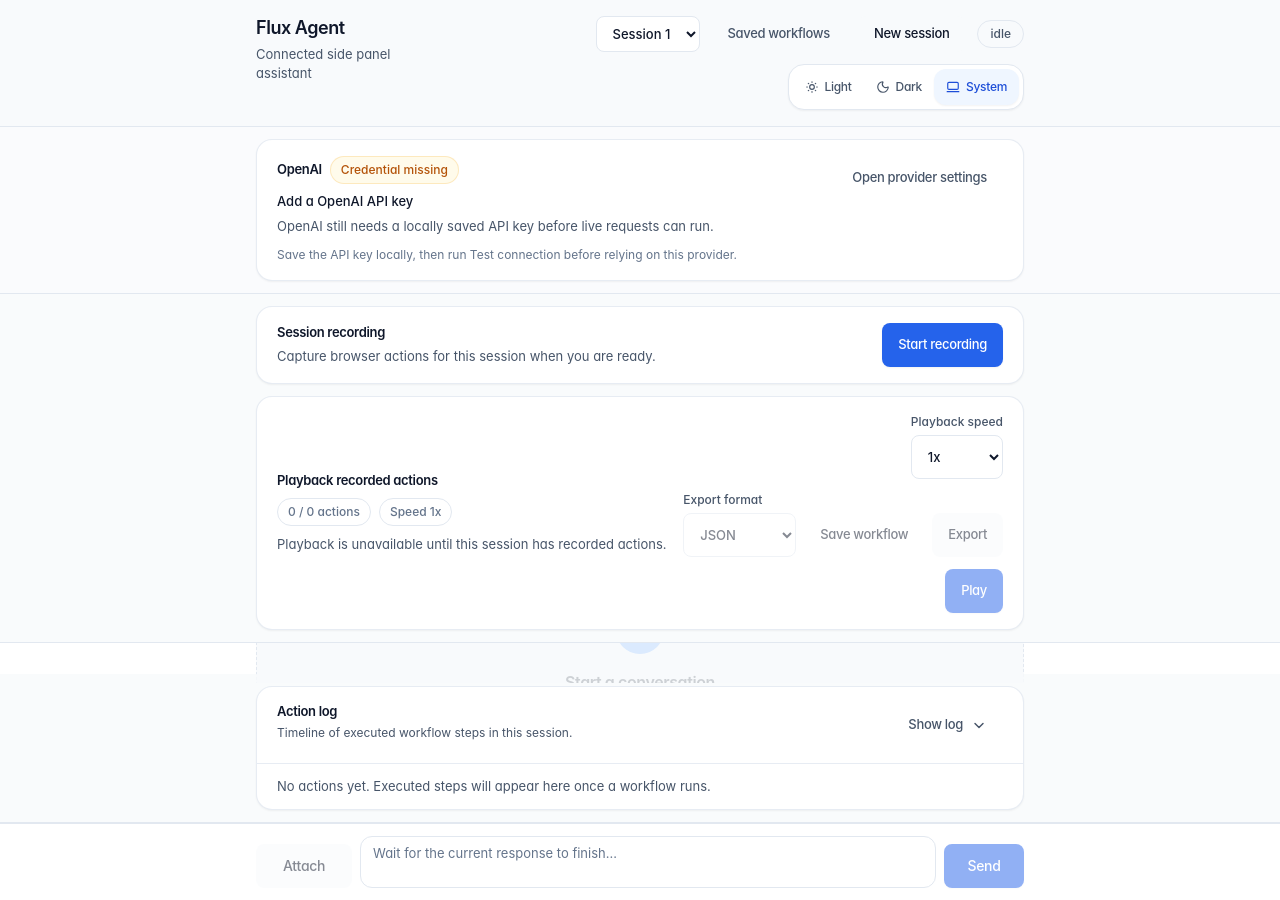
Test case: Side panel App (U-15 integration) › reuses the save modal to edit workflow metadata
The width and height of the screenshot is (1280, 900).
Click the button "Saved workflows" at (779, 34), box [712, 16, 846, 52]
(page scrolled)
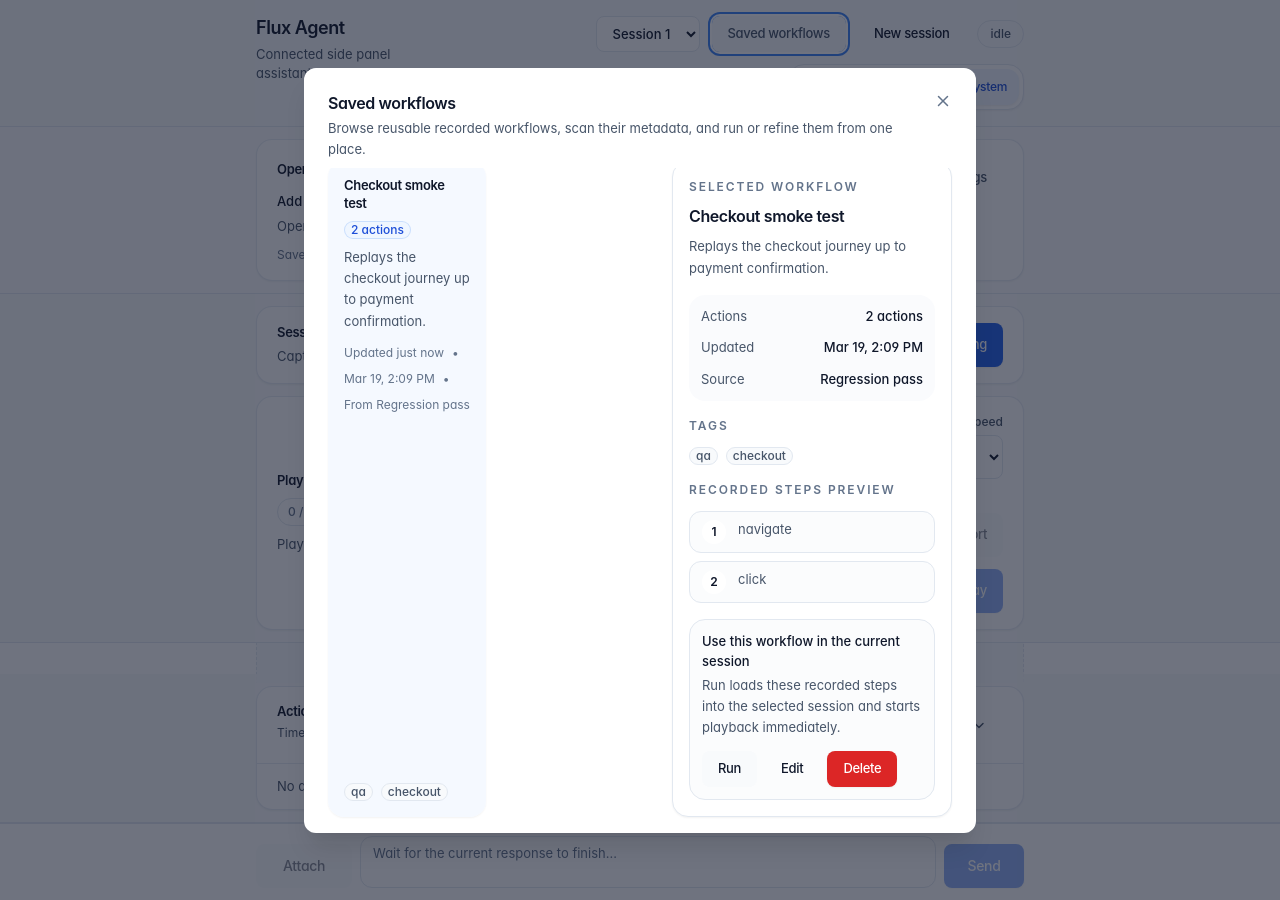
Click the button "Edit" at (792, 768), box [765, 750, 819, 786]
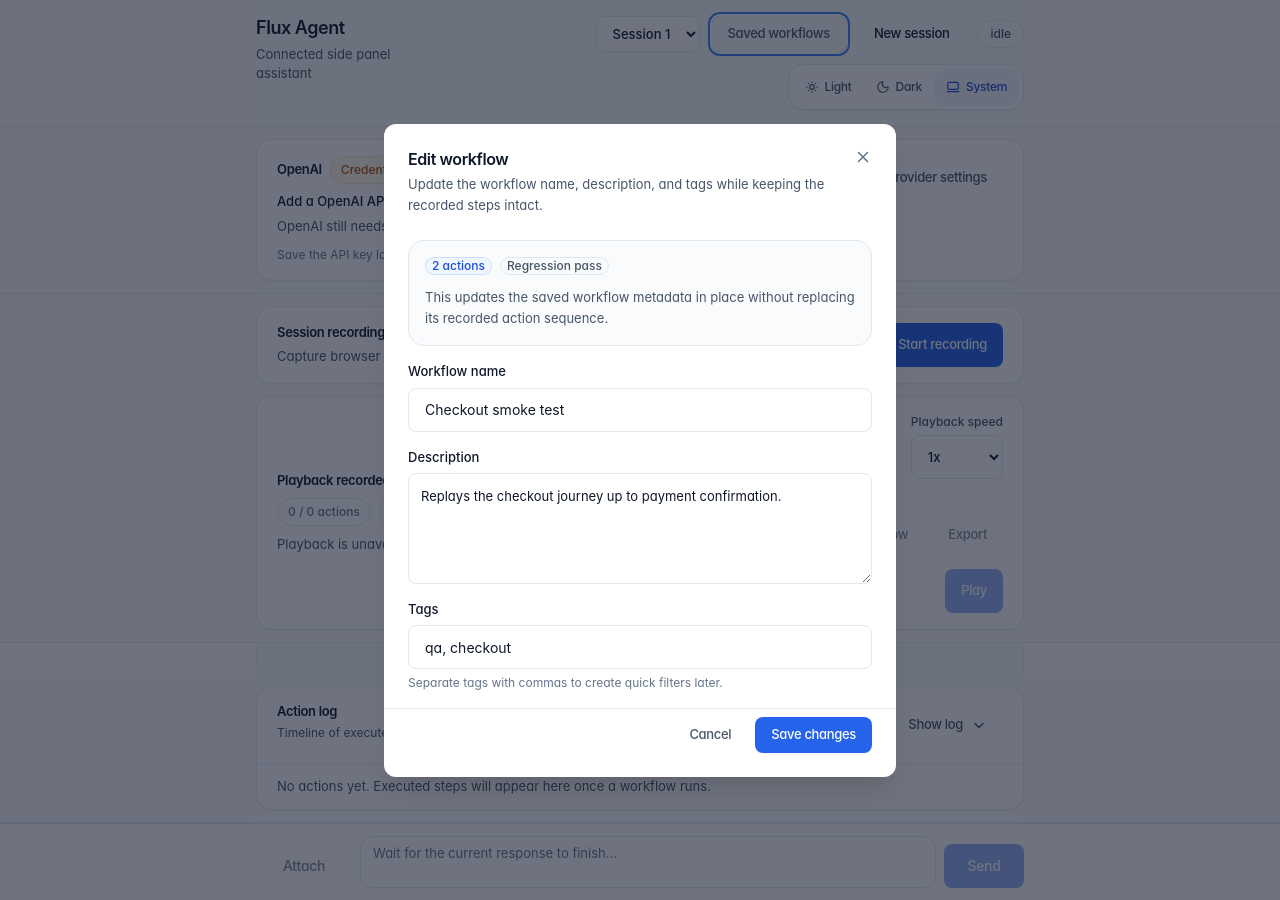
Expected: the button "Save changes" is shown, [755, 716, 872, 752]
Type "Checkout recovery path" into the field labelled "Workflow name" at (640, 410), box [408, 388, 872, 432]
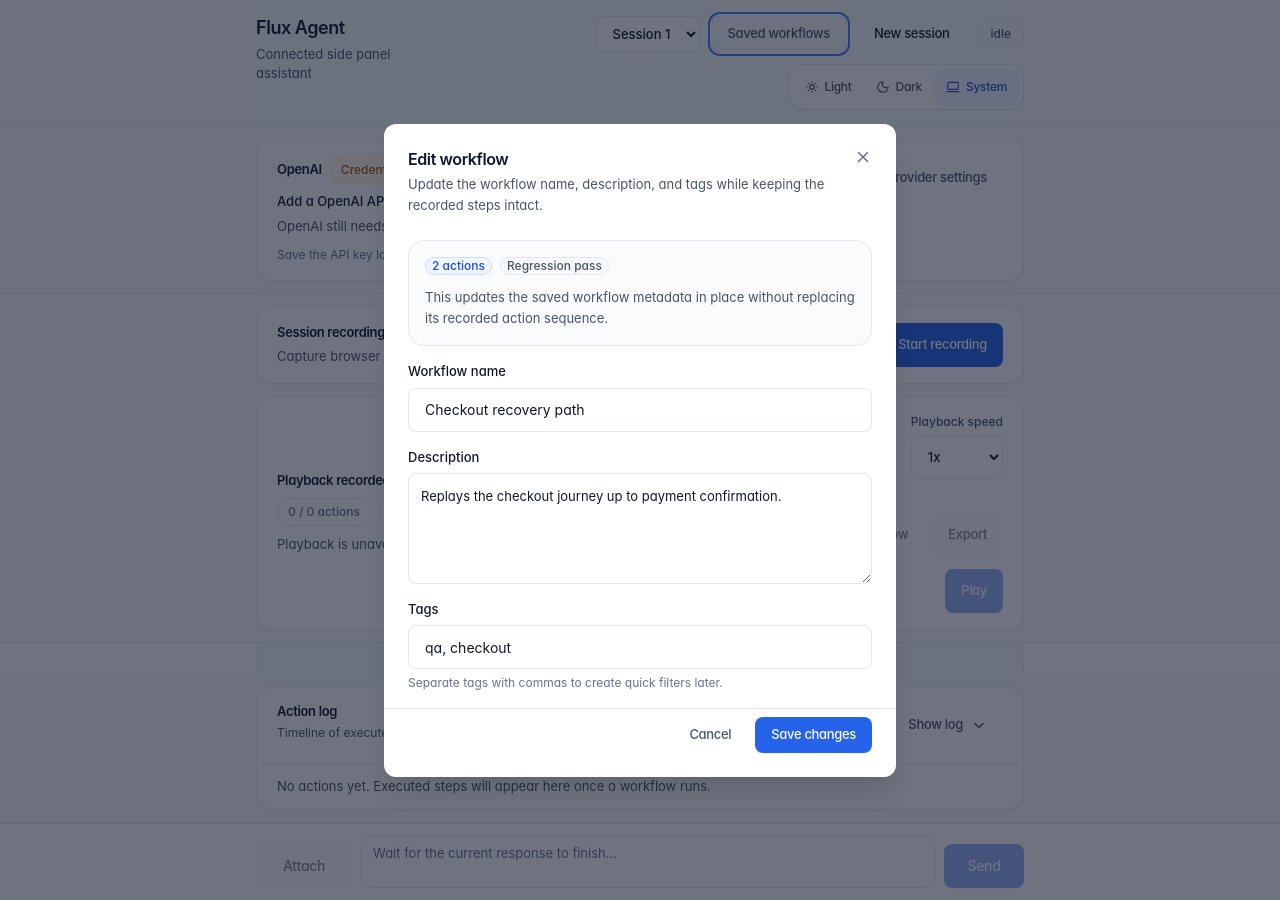
Replace the text in the text box labelled "Description" with "Covers retries before payment confirmation." at (640, 528), box [408, 473, 872, 584]
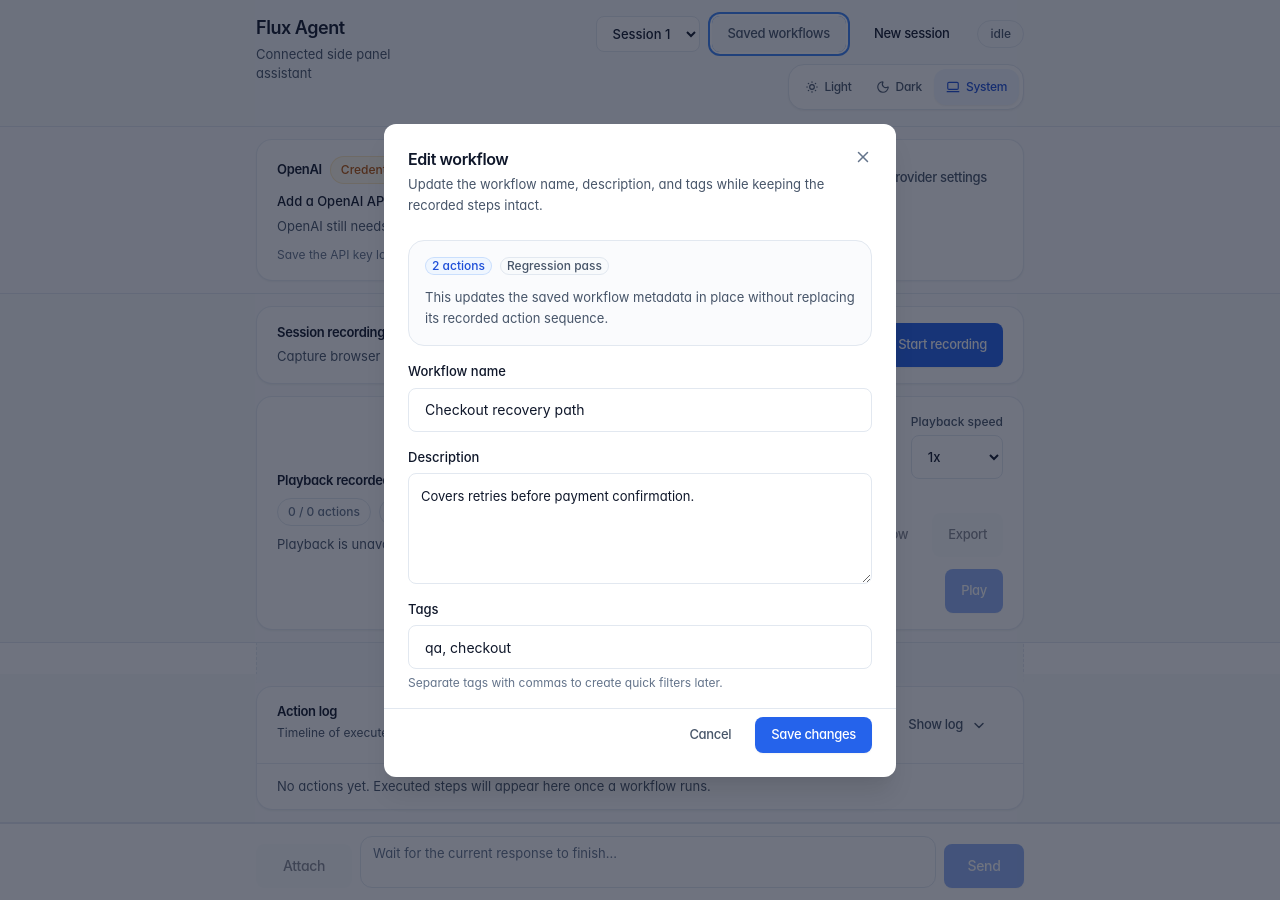
Replace the text in the field labelled "Tags" with "qa, recovery" at (640, 647), box [408, 625, 872, 669]
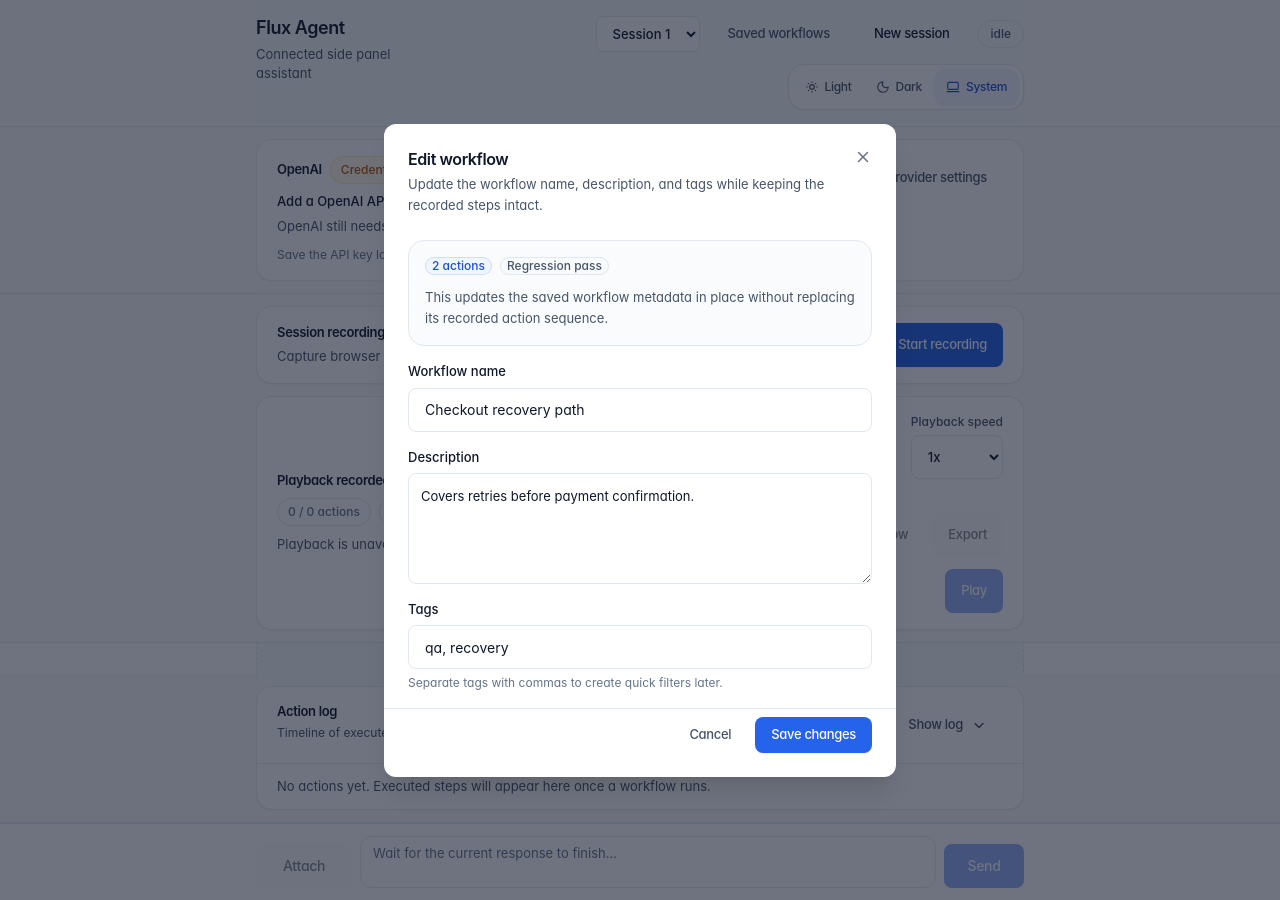
Click the button "Save changes" at (814, 734), box [755, 716, 872, 752]
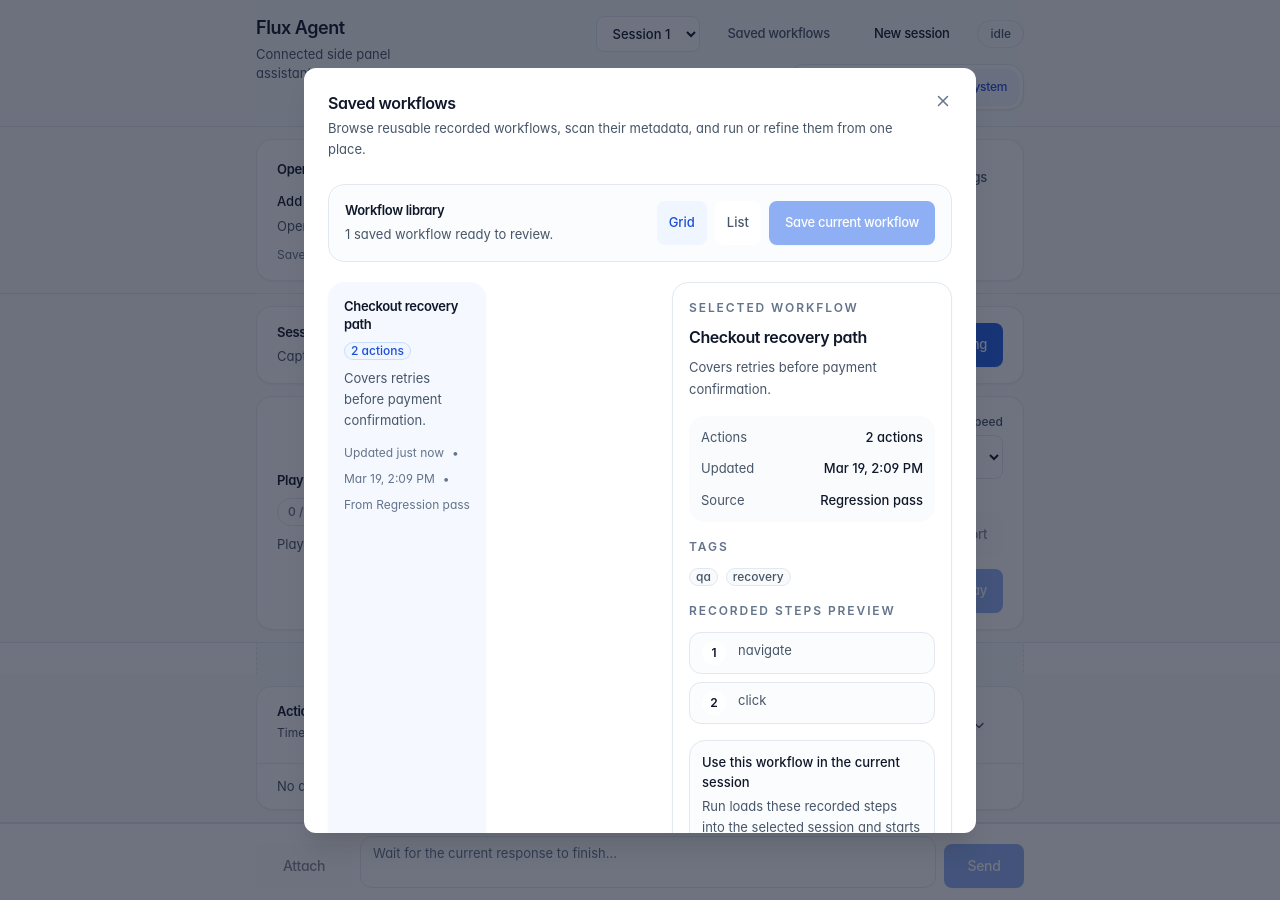
Expected: the number of headings "Checkout recovery path" is 2, [344, 298, 470, 334]; [689, 327, 867, 347]
Expected: the text "Covers retries before payment confirmation." is shown 2 times, [344, 370, 442, 428]; [689, 359, 877, 396]
Expected: the text "recovery" is shown 2 times
